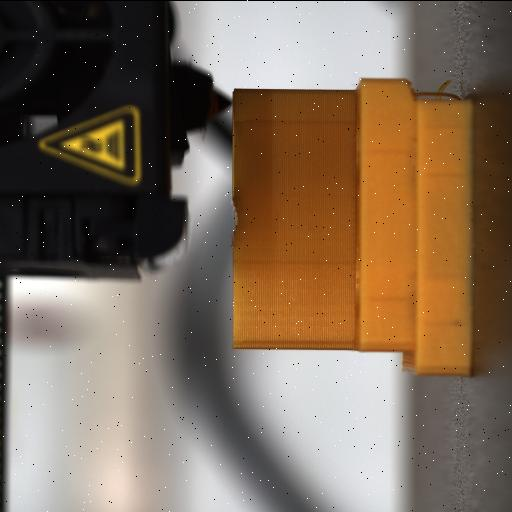layer_shift: (396, 78, 428, 376)
